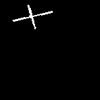single_crochet: (13, 5, 51, 28)
